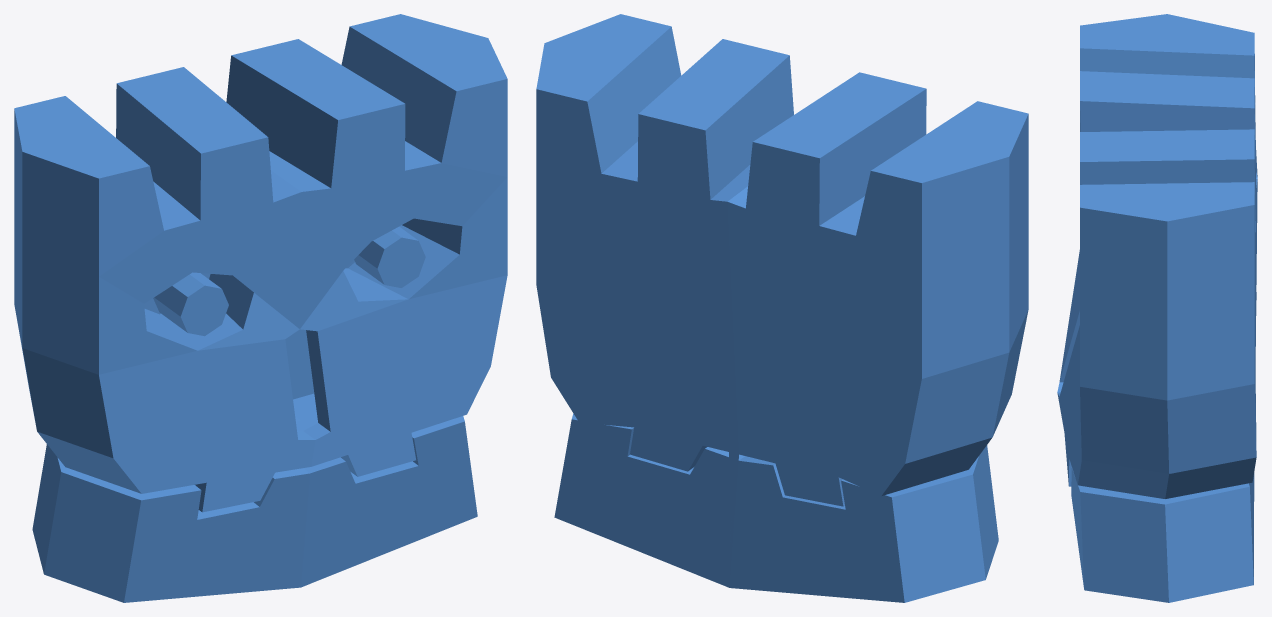
File: GodotToon1.glb
3 views of the same model, side by side, from view 1: azimuth 30°, elevation 25°; view 2: azimuth 150°, elevation 25°; view 3: azimuth 270°, elevation 25° (orthographic). The views are drawn at different scales.
Visible parts, largest first — view 1: Plane; view 2: Plane; view 3: Plane.
Part boxes in pixels (x1,y1,x2,y2): Plane: [14, 14, 507, 602]; Plane: [536, 14, 1028, 602]; Plane: [1057, 14, 1257, 602].
Bounding box in the file's own units: 1.59 × 1.5 × 0.6487.
